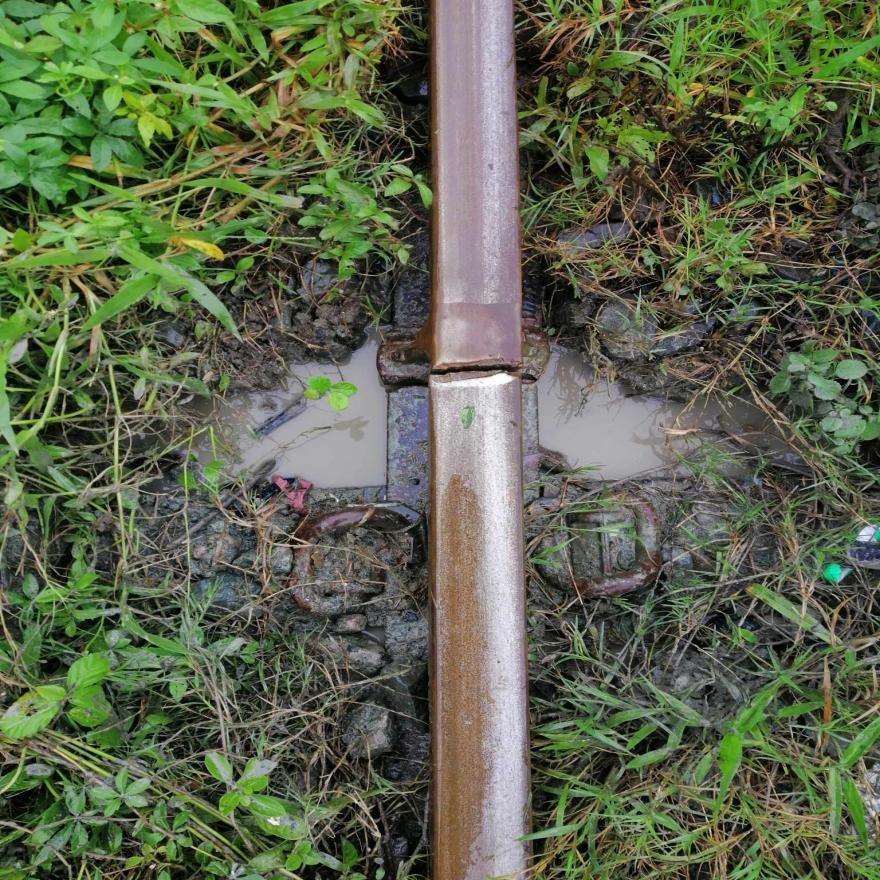railway-gap: (388, 312, 554, 426)
